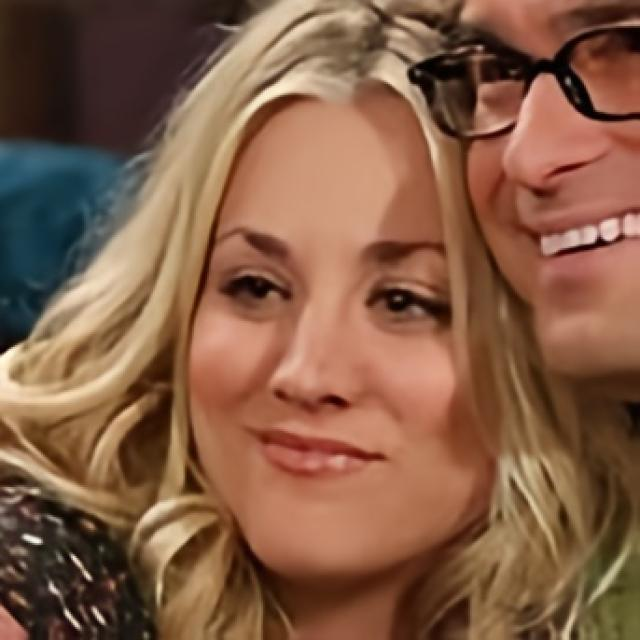content: (188, 94, 494, 578)
